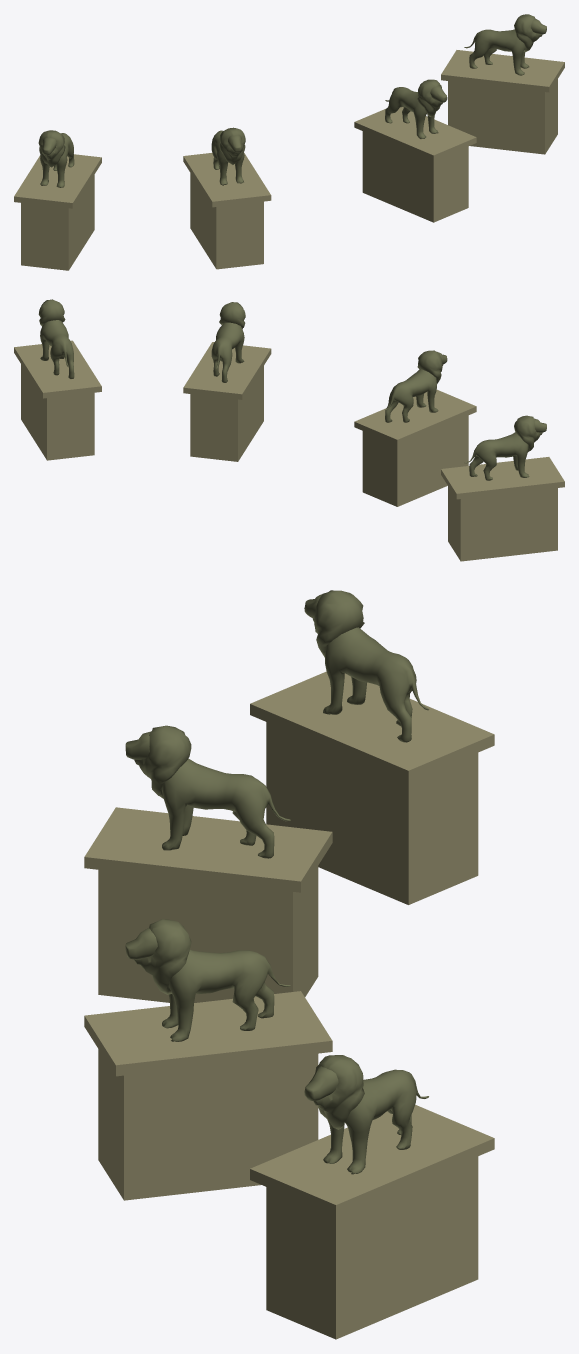
Rendered from Leones_y_plataforma.fbx.
3 views of the same model, one above another, from view 1: azimuth 30°, elevation 25°; view 2: azimuth 150°, elevation 25°; view 3: azimuth 270°, elevation 25° (orthographic). The views are drawn at different scales.
Parts seen in each view (by area): view 1: Plataforma04, Plataforma03, Plataforma02, Plataforma01, Leon04, Leon03, Leon01, Leon02; view 2: Plataforma01, Plataforma02, Plataforma03, Plataforma04, Leon01, Leon02, Leon04, Leon03; view 3: Plataforma04, Plataforma03, Plataforma01, Plataforma02, Leon03, Leon02, Leon01, Leon04.
Boxes of the visible parts, <box> form: Plataforma04: <box>441,50,564,154</box>; Plataforma03: <box>354,107,476,222</box>; Plataforma02: <box>183,153,271,269</box>; Plataforma01: <box>14,154,101,270</box>; Leon04: <box>464,14,546,75</box>; Leon03: <box>385,79,447,138</box>; Leon01: <box>38,130,74,187</box>; Leon02: <box>211,127,245,185</box>; Plataforma01: <box>441,457,564,561</box>; Plataforma02: <box>354,389,476,506</box>; Plataforma03: <box>183,342,271,461</box>; Plataforma04: <box>14,340,101,460</box>; Leon01: <box>464,415,546,480</box>; Leon02: <box>385,350,447,422</box>; Leon04: <box>38,299,74,378</box>; Leon03: <box>211,302,245,382</box>; Plataforma04: <box>250,1104,494,1339</box>; Plataforma03: <box>84,991,332,1200</box>; Plataforma01: <box>250,671,494,904</box>; Plataforma02: <box>84,807,332,1002</box>; Leon03: <box>125,919,290,1041</box>; Leon02: <box>125,725,290,858</box>; Leon01: <box>304,590,428,742</box>; Leon04: <box>304,1055,428,1174</box>.
Size of the model in its own units: 1.1 by 0.2416 by 0.356.
